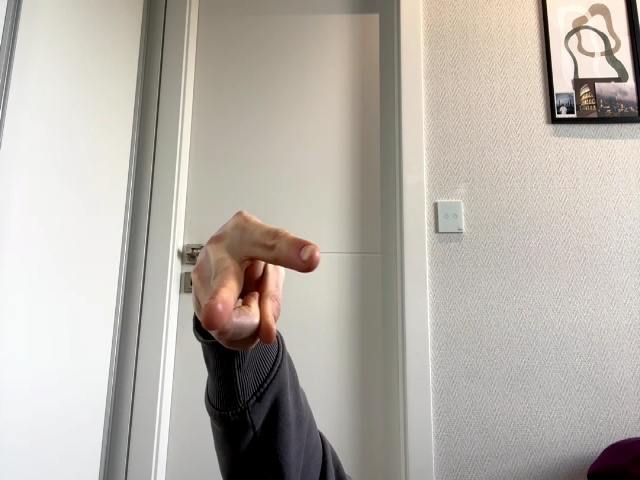U: (191, 212, 321, 351)
